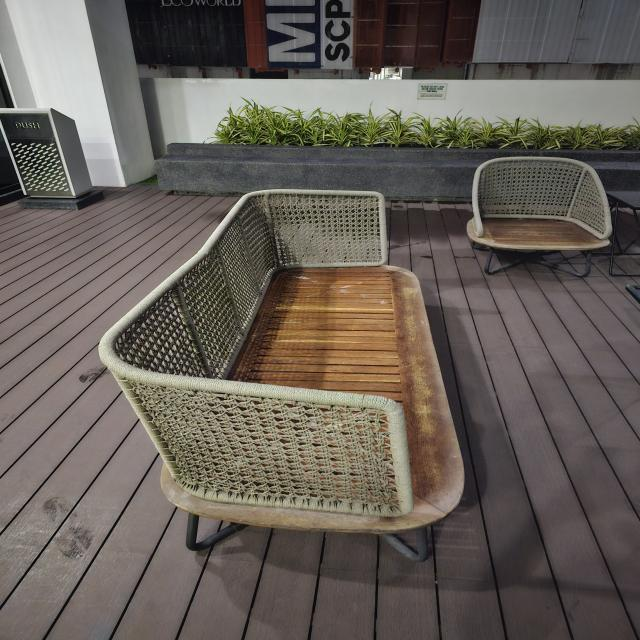obstacle: (96, 187, 468, 564), (152, 98, 638, 202), (463, 154, 616, 280), (0, 106, 104, 213)
